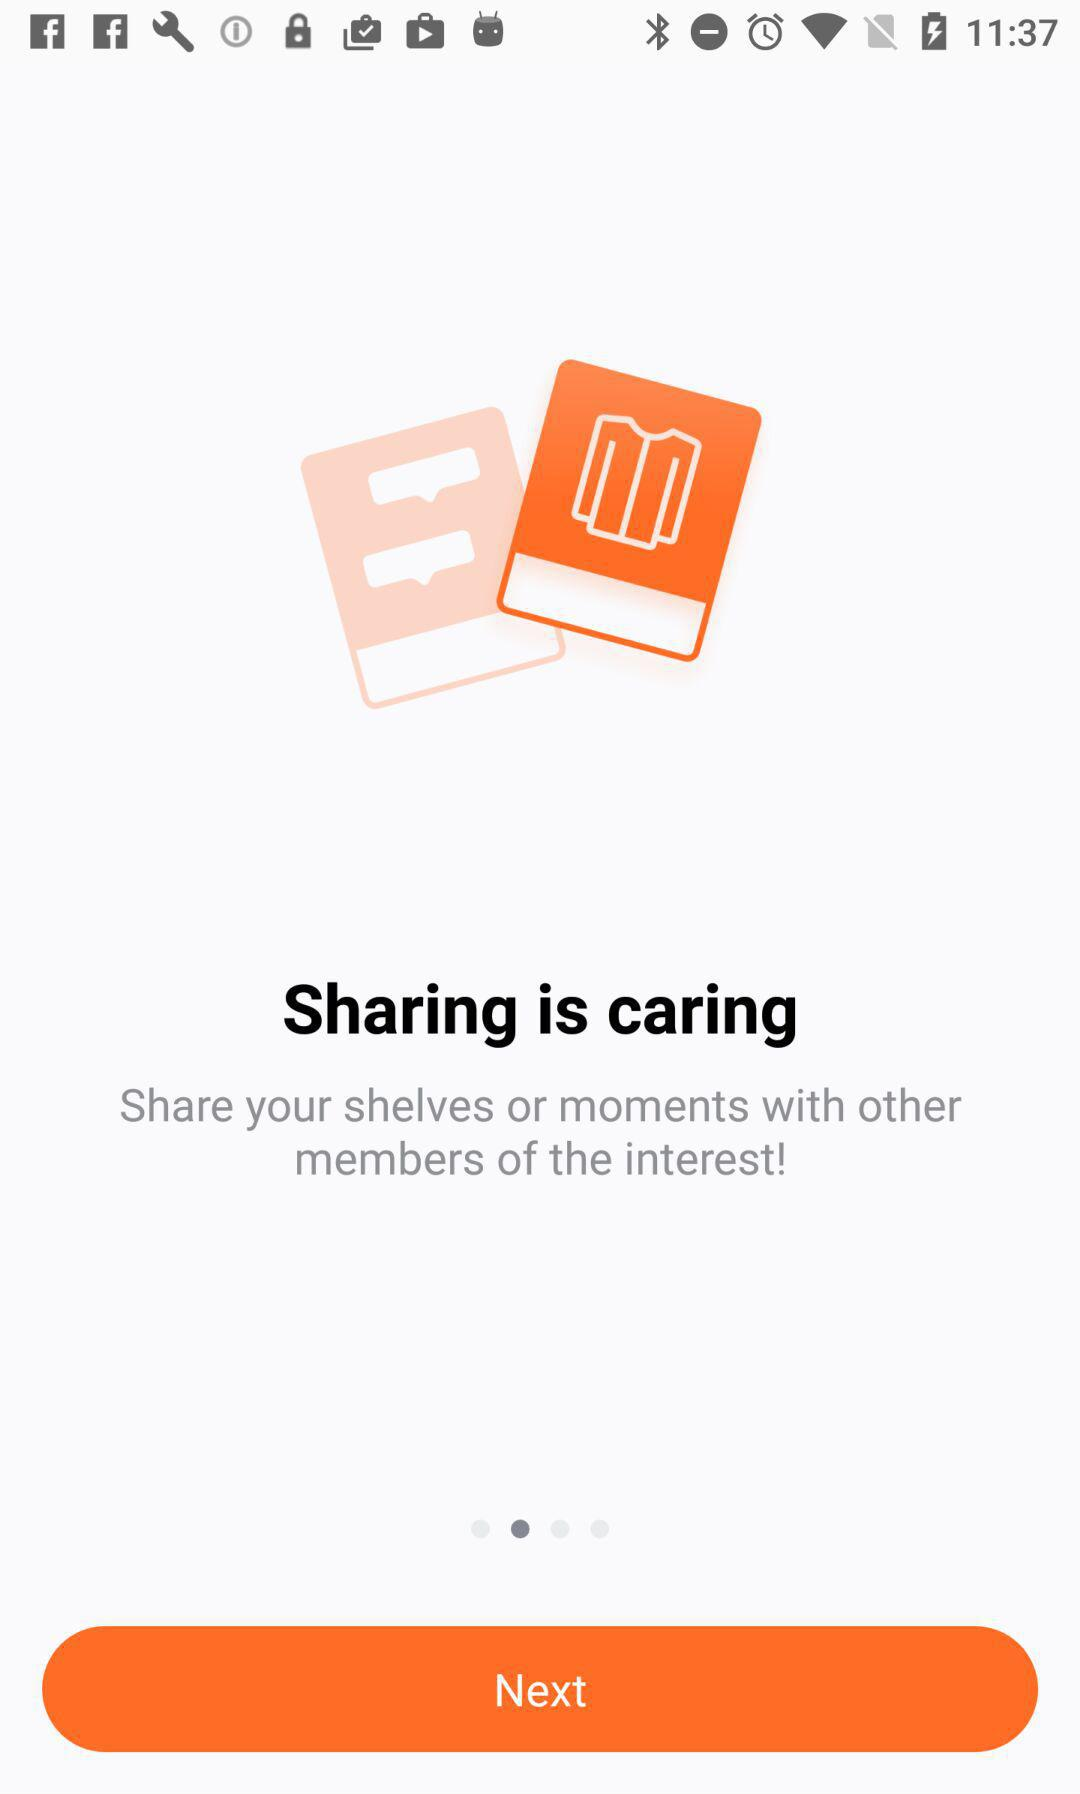Image: (300, 356, 764, 712)
PageIndicator: (469, 1518, 611, 1540)
Text: (120, 1083, 963, 1178), (282, 979, 798, 1049)
TextButton: (42, 1625, 1039, 1753)
UpperTaskBar: (1, 1, 1080, 64)
